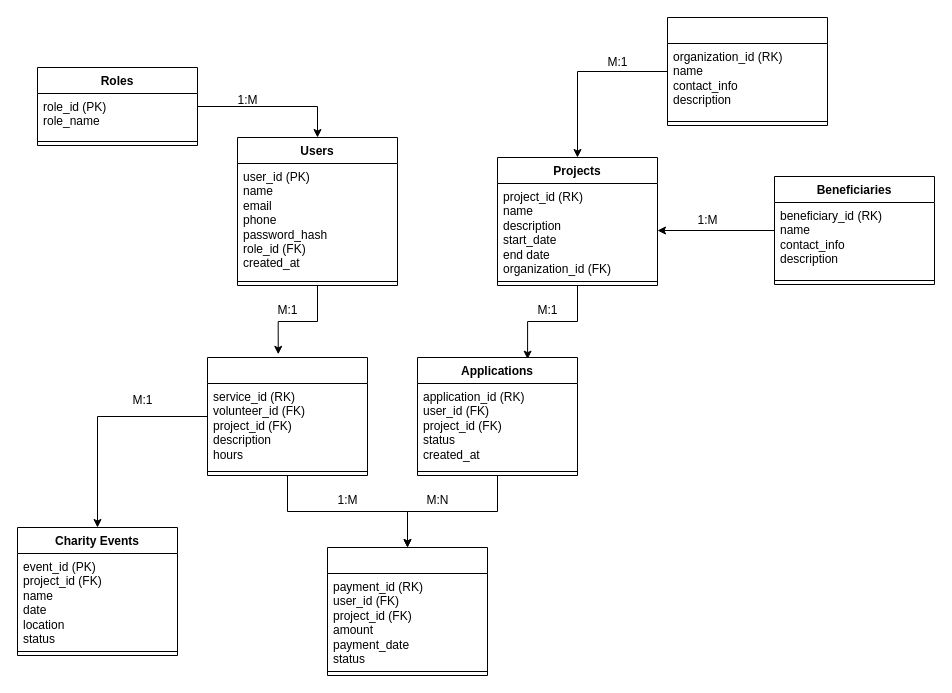
Some shapes in this 952 by 693 pixel diagram are drawn without their labels. Each missing label, with the box of its shape:
Organizations: (666, 16, 828, 126)
Payments: (326, 546, 488, 676)
Volunteer Services: (206, 356, 368, 476)
